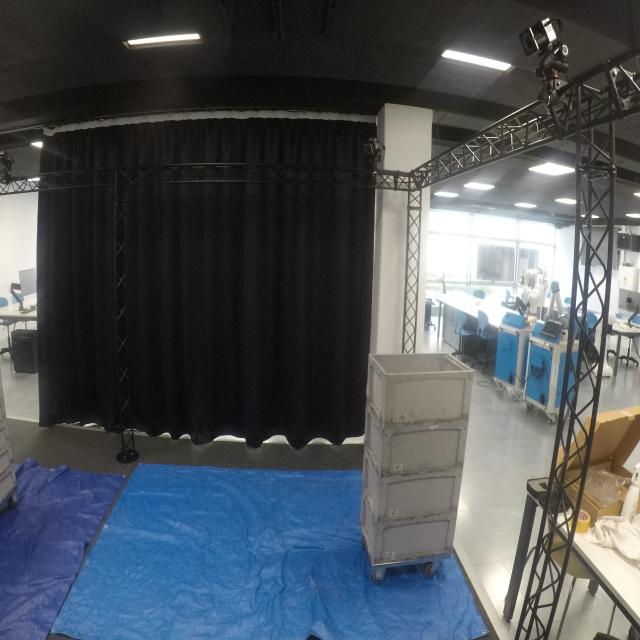Box4G: (365, 351, 474, 428), (358, 493, 458, 571), (361, 416, 472, 480), (357, 467, 464, 526)
